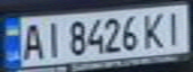2: (103, 15, 124, 54)
4: (84, 16, 109, 55)
6: (118, 12, 145, 52)
8: (63, 17, 87, 56)
A: (18, 20, 48, 61)
I: (160, 7, 190, 46), (39, 18, 66, 60)
K: (139, 9, 169, 50)
